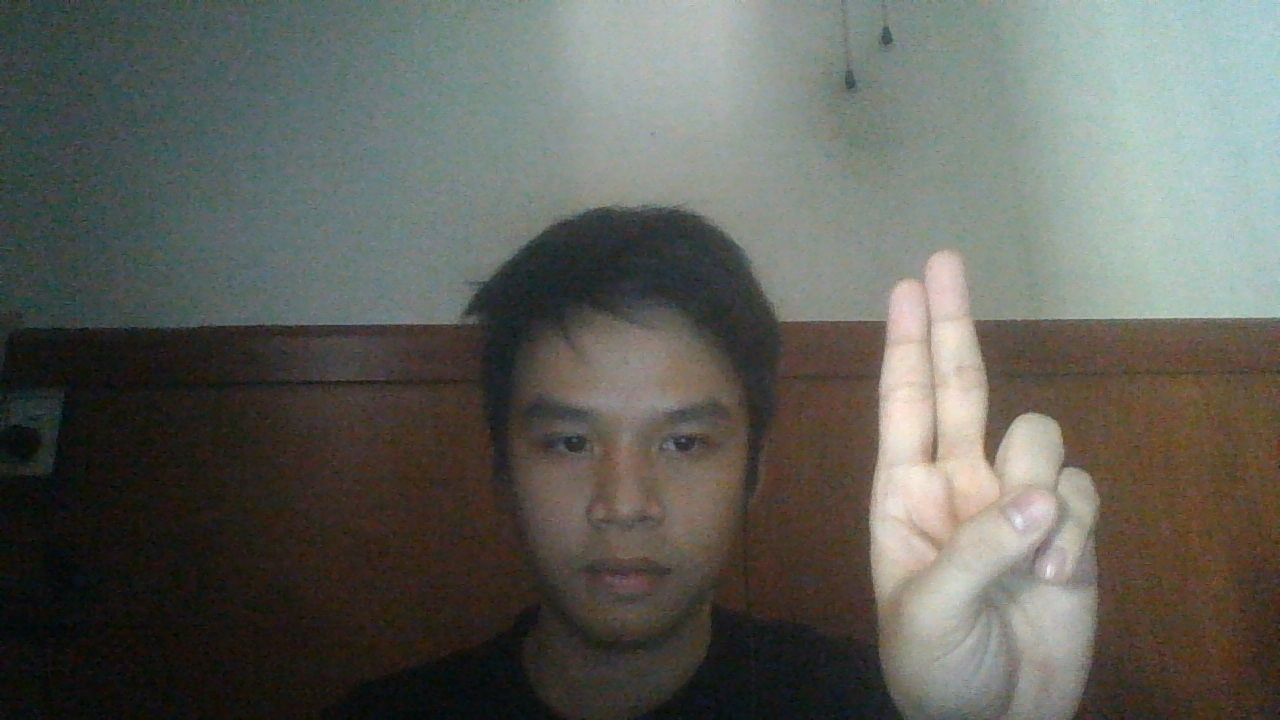write2: (866, 247, 1101, 720)
